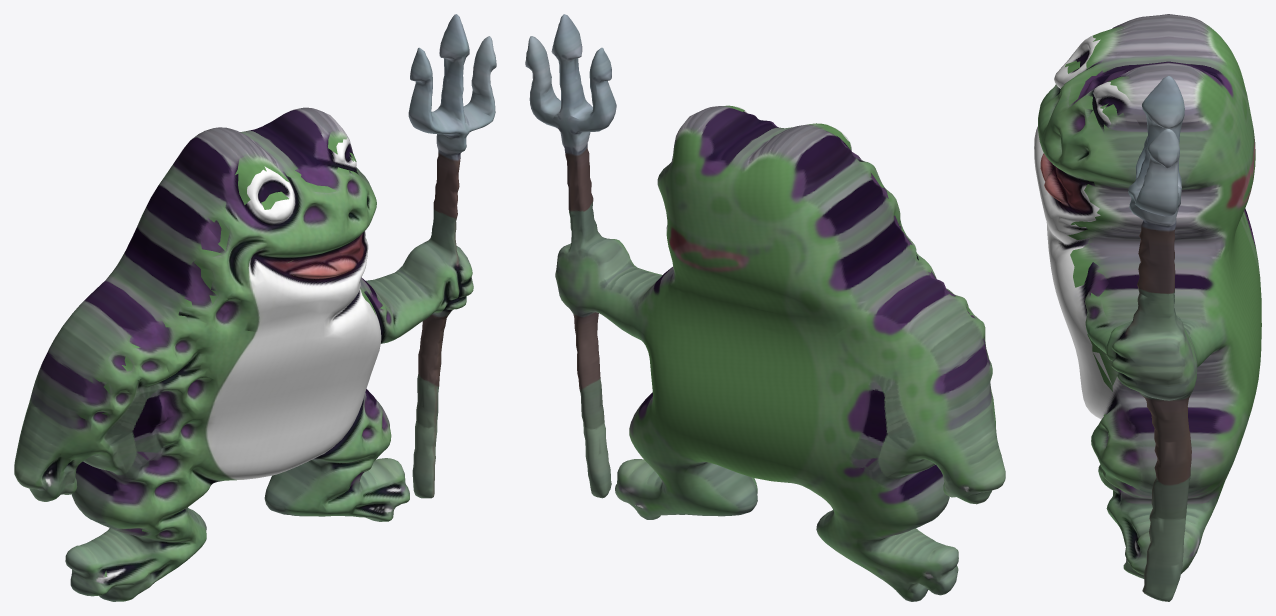
Rendered from Enemy_01_蛤蟆精.glb.
The picture shows the model from 3 angles, left to right: view 1: azimuth 30°, elevation 25°; view 2: azimuth 150°, elevation 25°; view 3: azimuth 270°, elevation 25°; orthographic projection. The views are drawn at different scales.
Visible parts, largest first — view 1: enemy_toad; view 2: enemy_toad; view 3: enemy_toad.
Part boxes in pixels (<box>): enemy_toad: <box>14,14,496,601</box>; enemy_toad: <box>525,14,1005,601</box>; enemy_toad: <box>1034,14,1261,601</box>.
Size of the model in its own units: 2.04 by 2.04 by 0.7342.
1 material, 1 textured.
